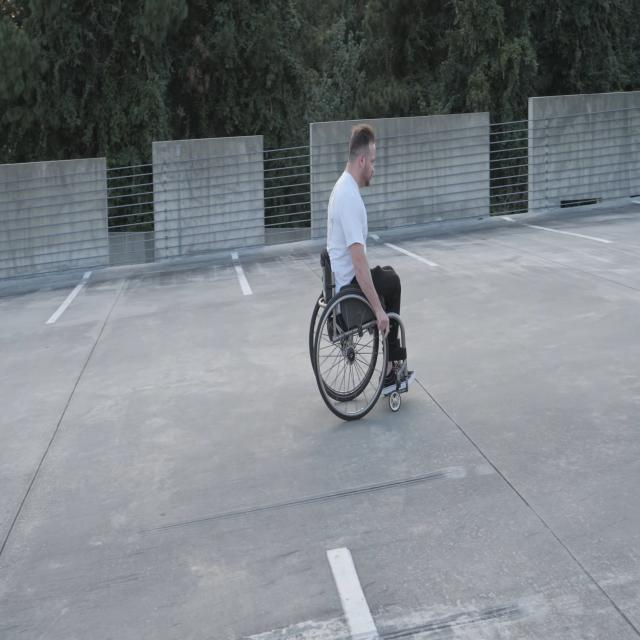wheelchairs: (308, 248, 408, 418)
